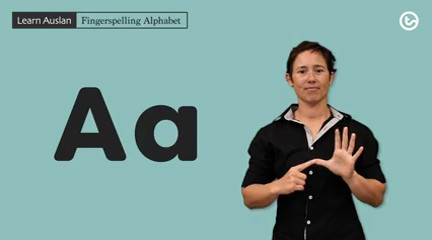A: (280, 124, 367, 194)
